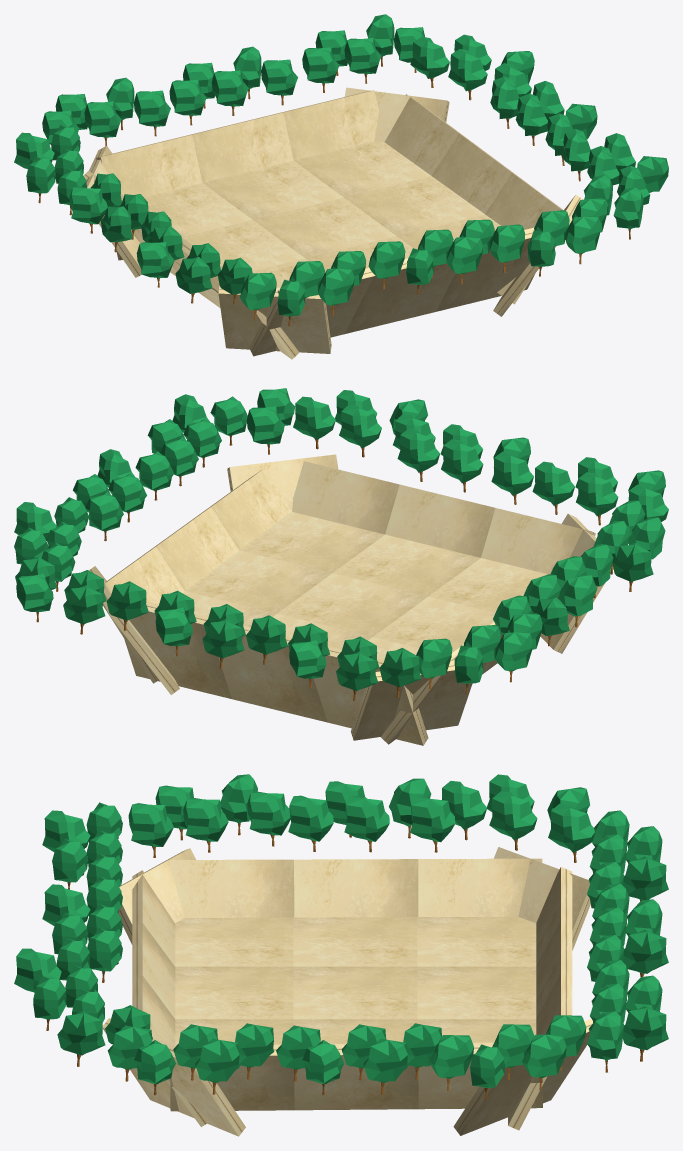
File: TutorialStage.fbx
3 renders of one model, top to bottom at view 1: azimuth 30°, elevation 25°; view 2: azimuth 150°, elevation 25°; view 3: azimuth 270°, elevation 25°, orthographic. The views are drawn at different scales.
Visible parts, largest first — view 1: 立方体, 立方体.010, 立方体.003, 立方体.011, 立方体.001, 立方体.002, 立方体.009, 立方体.021, 立方体.013, 立方体.019, 立方体.008, 立方体.020 (+73 smaller); view 2: 立方体, 立方体.013, 立方体.012, 立方体.003, 立方体.005, 立方体.010, 立方体.004, 立方体.014, 立方体.022, 立方体.011, 立方体.019, 立方体.007 (+72 smaller); view 3: 立方体.016, 立方体.017, 立方体, 立方体.001, 立方体.005, 立方体.015, 立方体.007, 立方体.008, 立方体.006, 立方体.019, 立方体.023, 立方体.024 (+75 smaller).
Part boxes in pixels (left/top/right/bottom): 立方体: left=253, top=197, right=396, bottom=258; 立方体.010: left=188, top=112, right=293, bottom=182; 立方体.003: left=344, top=176, right=484, bottom=235; 立方体.011: left=280, top=90, right=378, bottom=160; 立方体.001: left=203, top=160, right=343, bottom=219; 立方体.002: left=294, top=141, right=431, bottom=197; 立方体.009: left=96, top=135, right=202, bottom=260; 立方体.021: left=218, top=285, right=331, bottom=353; 立方体.013: left=345, top=258, right=455, bottom=333; 立方体.019: left=431, top=133, right=516, bottom=213; 立方体.008: left=144, top=183, right=252, bottom=236; 立方体.020: left=384, top=94, right=464, bottom=175; 立方体: left=277, top=573, right=427, bottom=636; 立方体.013: left=385, top=484, right=495, bottom=557; 立方体.012: left=292, top=461, right=399, bottom=534; 立方体.003: left=186, top=550, right=331, bottom=613; 立方体.005: left=333, top=534, right=480, bottom=596; 立方体.010: left=218, top=625, right=327, bottom=722; 立方体.004: left=240, top=512, right=384, bottom=572; 立方体.014: left=481, top=508, right=595, bottom=574; 立方体.022: left=350, top=660, right=472, bottom=740; 立方体.011: left=122, top=601, right=231, bottom=698; 立方体.019: left=150, top=507, right=238, bottom=590; 立方体.007: left=373, top=596, right=495, bottom=652; 立方体.016: left=294, top=859, right=418, bottom=917; 立方体.017: left=170, top=859, right=294, bottom=917; 立方体: left=293, top=966, right=417, bottom=1019; 立方体.001: left=417, top=966, right=536, bottom=1019; 立方体.005: left=175, top=966, right=293, bottom=1019; 立方体.015: left=418, top=858, right=542, bottom=916; 立方体.007: left=293, top=917, right=417, bottom=966; 立方体.008: left=417, top=916, right=536, bottom=966; 立方体.006: left=175, top=917, right=293, bottom=966; 立方体.019: left=294, top=1044, right=418, bottom=1110; 立方体.023: left=453, top=1019, right=592, bottom=1135; 立方体.024: left=102, top=1018, right=245, bottom=1136.
Bounding box in the file's own units: 109 × 26.15 × 106.
141 materials, 141 textured.
